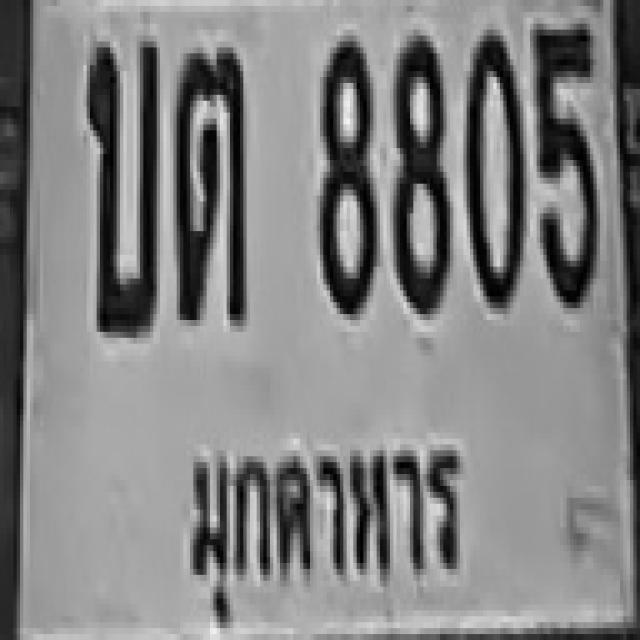0: (464, 24, 524, 308)
5: (533, 18, 597, 308)
8: (390, 30, 450, 314), (316, 33, 376, 317)
A21: (172, 41, 245, 320)
A26: (83, 32, 157, 329)
MDH: (173, 420, 468, 640)
